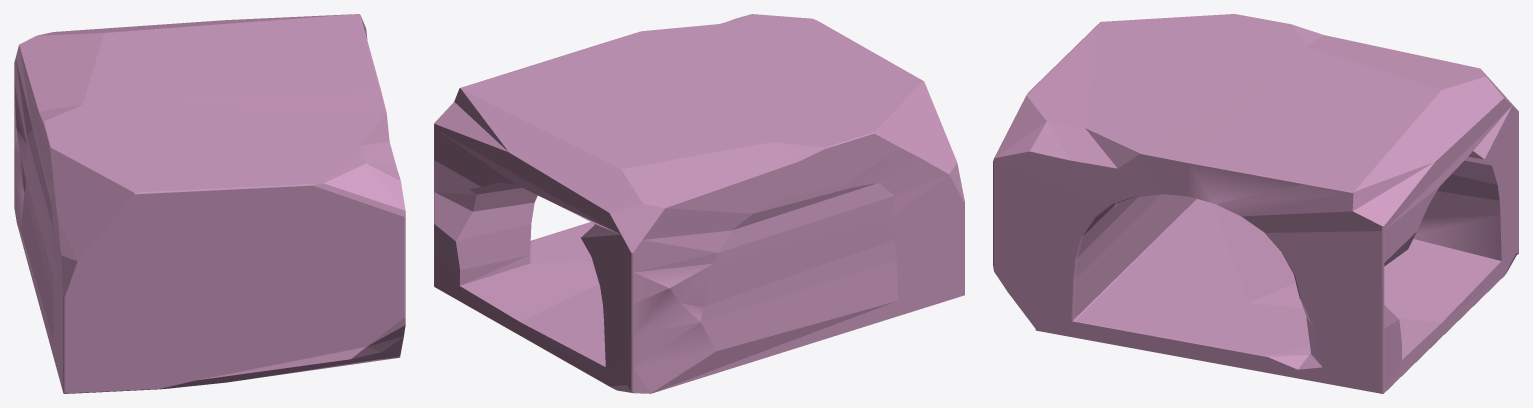
The model's file is kocia_chatka_dwa_drzwi_splaszczona_zamknieta.fbx.
The picture shows the model from 3 angles, left to right: view 1: azimuth 30°, elevation 25°; view 2: azimuth 150°, elevation 25°; view 3: azimuth 270°, elevation 25°; orthographic projection. The views are drawn at different scales.
Parts seen in each view (by area): view 1: kocia_chatka_dwa_drzwi_splaszczona; view 2: kocia_chatka_dwa_drzwi_splaszczona; view 3: kocia_chatka_dwa_drzwi_splaszczona.
Boxes of the visible parts, x1=… form: kocia_chatka_dwa_drzwi_splaszczona: x1=14, y1=14, x2=405, y2=393; kocia_chatka_dwa_drzwi_splaszczona: x1=434, y1=14, x2=964, y2=393; kocia_chatka_dwa_drzwi_splaszczona: x1=993, y1=14, x2=1518, y2=393.
Bounding box in the file's own units: 445 × 200 × 486.
